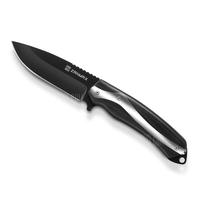knife: (9, 38, 190, 164)
